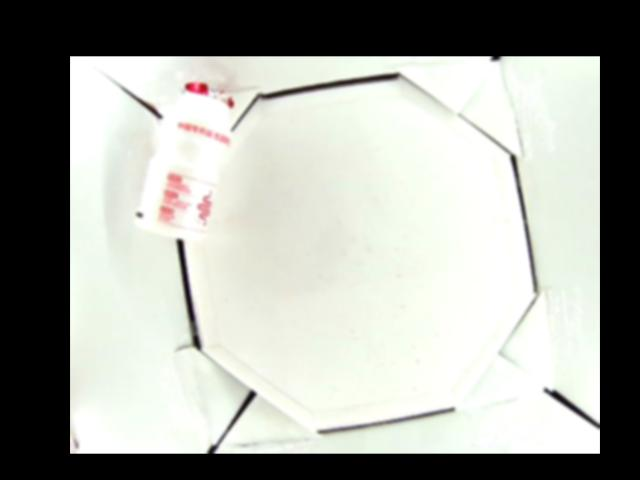Bottle: (133, 77, 237, 244)
